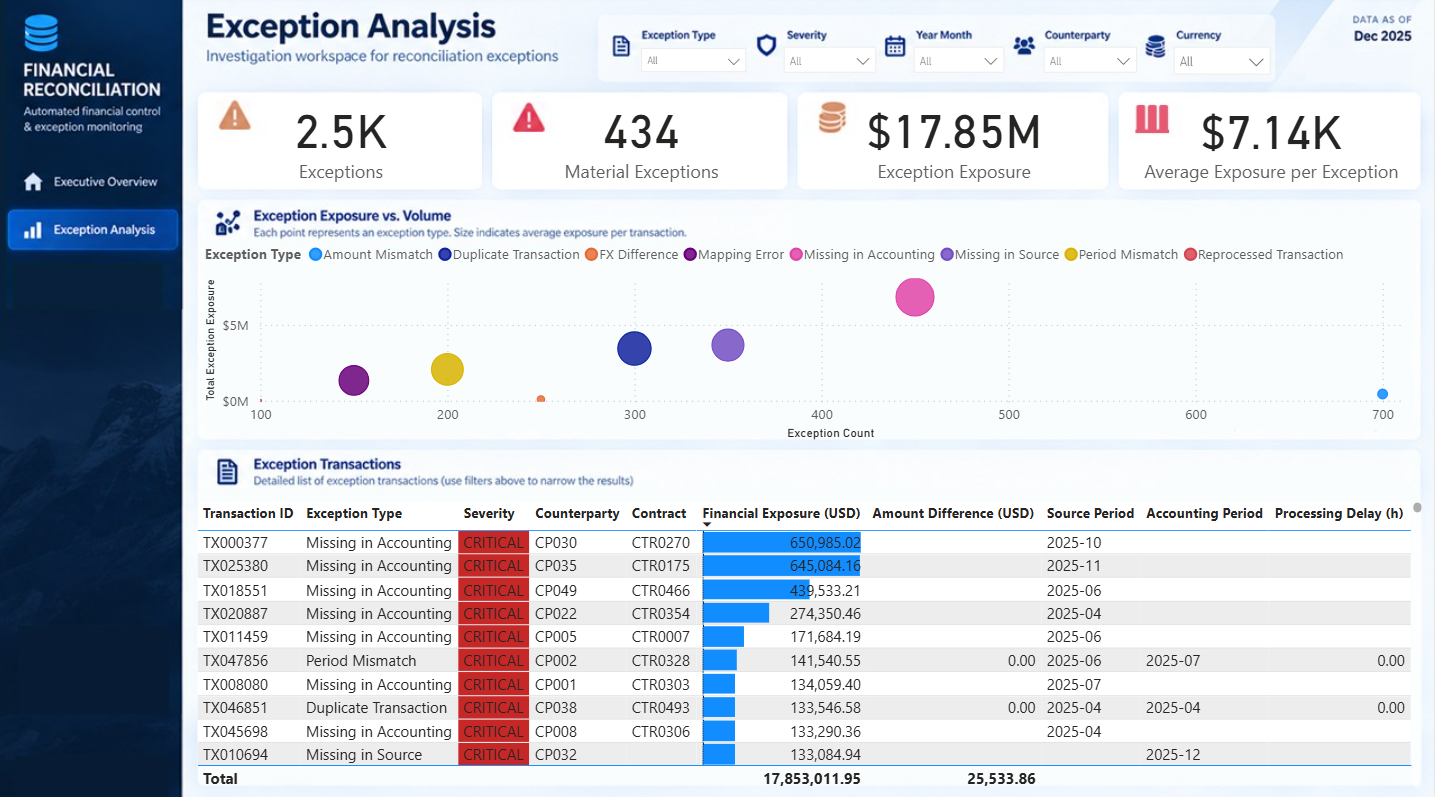

This screenshot's page, from the dashboard's own definition file:
{"tool":"powerbi","page":{"name":"Exception Analysis","canvas":[1280,720],"ordinal":1},"visuals":[{"type":"tableEx","fields":{"Values":["Reconciliation.transaction_id","Reconciliation.Exception Type","Reconciliation.Severity","Reconciliation.Counterparty","Reconciliation.contract_id_source","Sum(Reconciliation.financial_exposure_usd)","Sum(Reconciliation.amount_difference_usd)","Reconciliation.accounting_period_source","Reconciliation.accounting_period_accounting","Reconciliation.processing_delay_hours"]},"box":[172.6,446.3,1102.1,265.3],"z":3},{"type":"cardVisual","fields":{"Data":["_Measures.Exception Transactions"]},"box":[180.2,73.9,252.5,118.3],"z":5},{"type":"cardVisual","fields":{"Data":["_Measures.Total Exception Exposure"]},"box":[712.5,73.8,280,118.8],"z":6},{"type":"cardVisual","fields":{"Data":["_Measures.Average Exception Exposure"]},"box":[997.7,74.7,275.5,116.7],"z":7},{"type":"cardVisual","fields":{"Data":["_Measures.Material Exceptions"]},"box":[442.4,73.9,264.6,117.9],"z":8},{"type":"slicer","fields":{"Values":["Calendar.Year Month"]},"box":[806.4,35.7,101,44],"z":9},{"type":"slicer","fields":{"Values":["Reconciliation.Currency"]},"box":[1037.4,35.1,106.4,44.4],"z":10},{"type":"slicer","fields":{"Values":["Reconciliation.Counterparty"]},"box":[921.4,35.7,103.6,43.6],"z":11},{"type":"slicer","fields":{"Values":["Reconciliation.Severity"]},"box":[690.6,35.7,103,44],"z":12},{"type":"slicer","fields":{"Values":["Reconciliation.Exception Type"]},"box":[563.3,36.2,114,44.3],"z":13},{"type":"scatterChart","fields":{"Series":["Reconciliation.Exception Type"],"Size":["_Measures.Average Exception Exposure"],"X":["_Measures.Exception Count"],"Y":["_Measures.Total Exception Exposure"]},"box":[179.9,211.5,1085.5,189.7],"z":14},{"type":"actionButton","box":[15,147.5,133.8,40],"z":15}]}

Visuals, with their boxes on the page's 1280x720 design canvas (x1, y1, x2, y2). These are canvas units, not pixel positions in the 1435x797 screenshot, which may show the page scaled, cropped or inside an application window:
tableEx - Reconciliation.transaction_id x Reconciliation.Exception Type: <region>173, 446, 1275, 712</region>
cardVisual - _Measures.Exception Transactions: <region>180, 74, 433, 192</region>
cardVisual - _Measures.Total Exception Exposure: <region>712, 74, 992, 193</region>
cardVisual - _Measures.Average Exception Exposure: <region>998, 75, 1273, 191</region>
cardVisual - _Measures.Material Exceptions: <region>442, 74, 707, 192</region>
slicer - Calendar.Year Month: <region>806, 36, 907, 80</region>
slicer - Reconciliation.Currency: <region>1037, 35, 1144, 80</region>
slicer - Reconciliation.Counterparty: <region>921, 36, 1025, 79</region>
slicer - Reconciliation.Severity: <region>691, 36, 794, 80</region>
slicer - Reconciliation.Exception Type: <region>563, 36, 677, 80</region>
scatterChart - Reconciliation.Exception Type x _Measures.Average Exception Exposure: <region>180, 212, 1265, 401</region>
actionButton: <region>15, 148, 149, 188</region>
